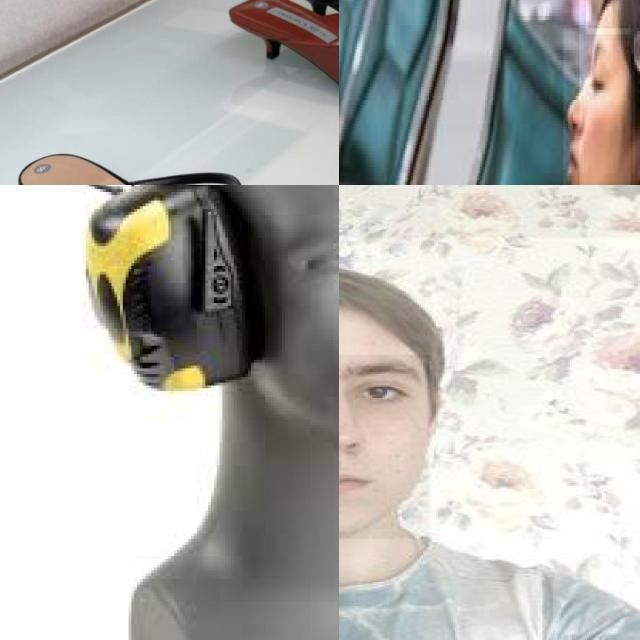Ear-protection: (80, 185, 253, 391)
Sandals: (0, 113, 339, 185)
face_nomask: (339, 355, 429, 539), (563, 28, 630, 185)
head_nohelmet: (339, 250, 442, 359), (585, 0, 640, 37)
person: (339, 237, 640, 640), (339, 0, 640, 185), (579, 0, 640, 185)
